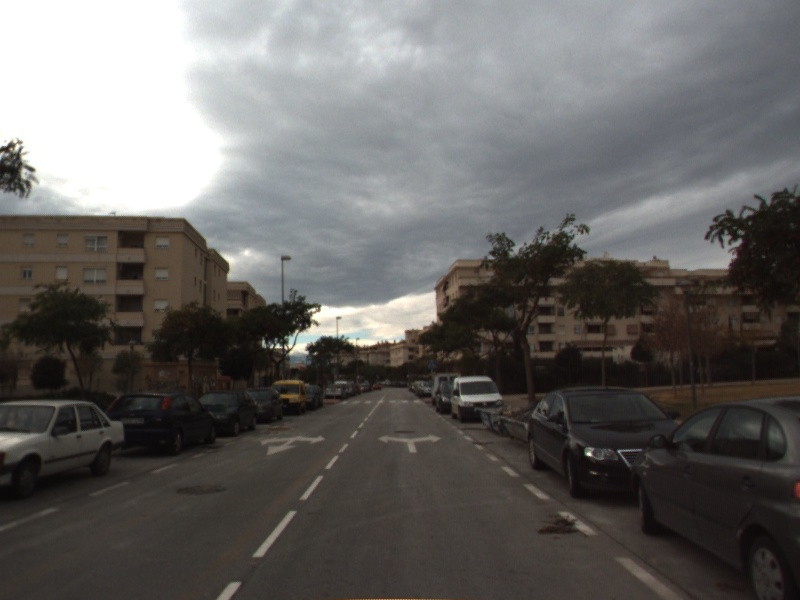LEFT_RIGHT: (376, 432, 444, 455)
